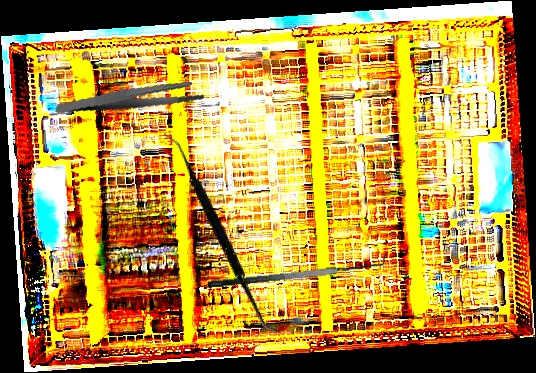Dressing Forceps: (54, 64, 207, 133)
Spatula Surgical: (104, 130, 341, 337), (206, 250, 388, 289)
